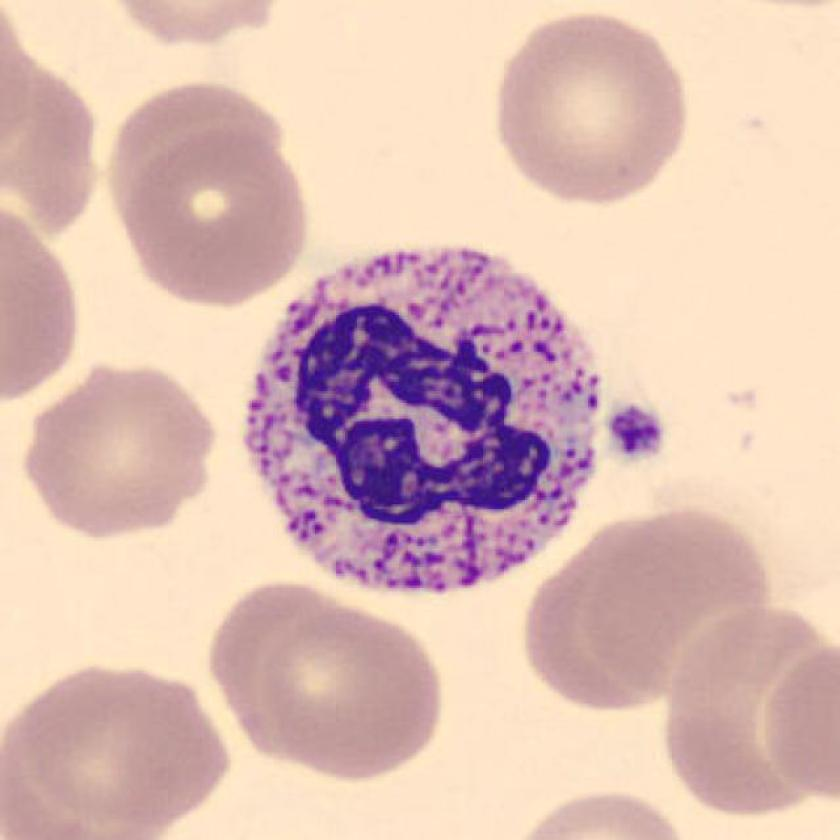neutrophil: (247, 247, 596, 587)
